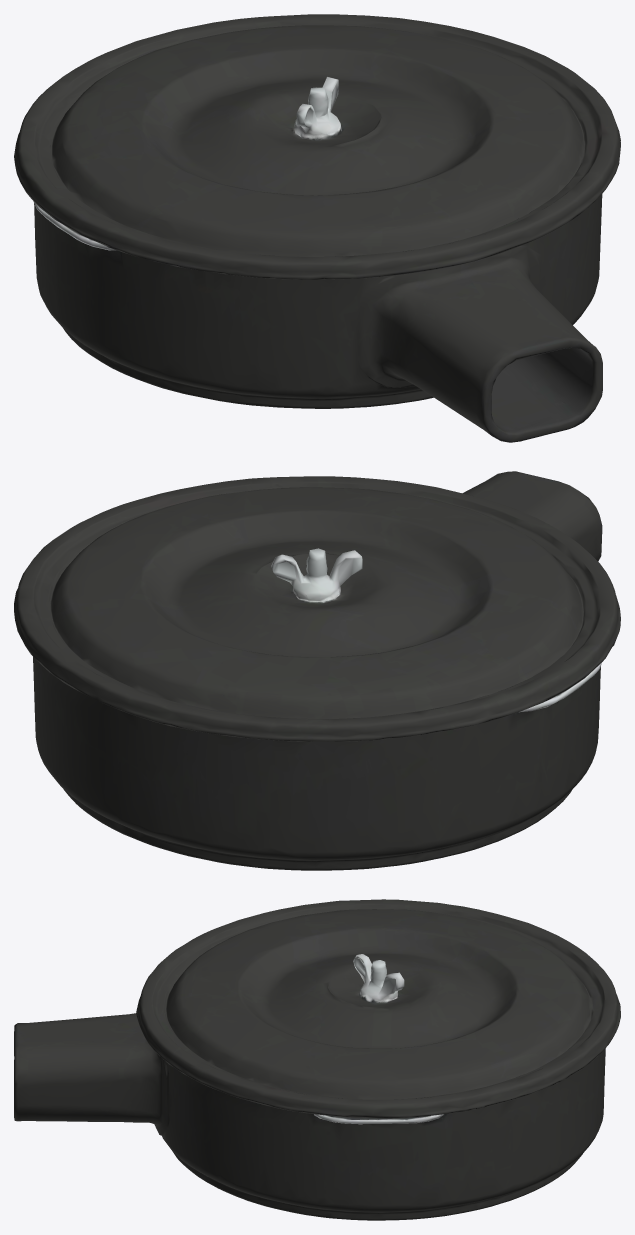
File: air-cleaner.glb
3 renders of one model, top to bottom at view 1: azimuth 30°, elevation 25°; view 2: azimuth 150°, elevation 25°; view 3: azimuth 270°, elevation 25°, orthographic. The views are drawn at different scales.
Parts seen in each view (by area): view 1: tripo_node_68ae6afc-c832-4c12-880a-420a3b38a06a; view 2: tripo_node_68ae6afc-c832-4c12-880a-420a3b38a06a; view 3: tripo_node_68ae6afc-c832-4c12-880a-420a3b38a06a.
Part boxes in pixels (bbox=[...]): tripo_node_68ae6afc-c832-4c12-880a-420a3b38a06a: bbox=[14, 14, 620, 442]; tripo_node_68ae6afc-c832-4c12-880a-420a3b38a06a: bbox=[14, 471, 620, 870]; tripo_node_68ae6afc-c832-4c12-880a-420a3b38a06a: bbox=[14, 899, 620, 1220].
Size of the model in its own units: 0.8145 by 0.3067 by 1.
1 material, 1 textured.
